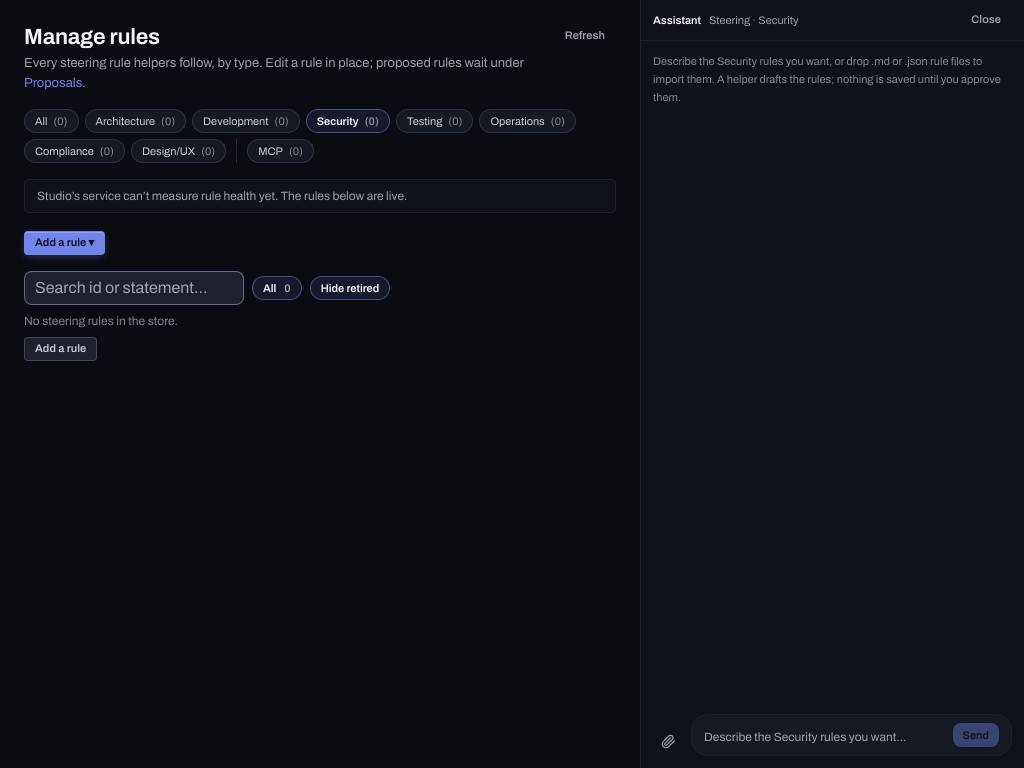
SteeringPage — the grid draft row (the add flow) › says where the SERVER filed the rule when an older engine drops steering_type
The width and height of the screenshot is (1024, 768).
Click the button with test id "steering-grid-add" at [61, 349], box [24,337,97,361]
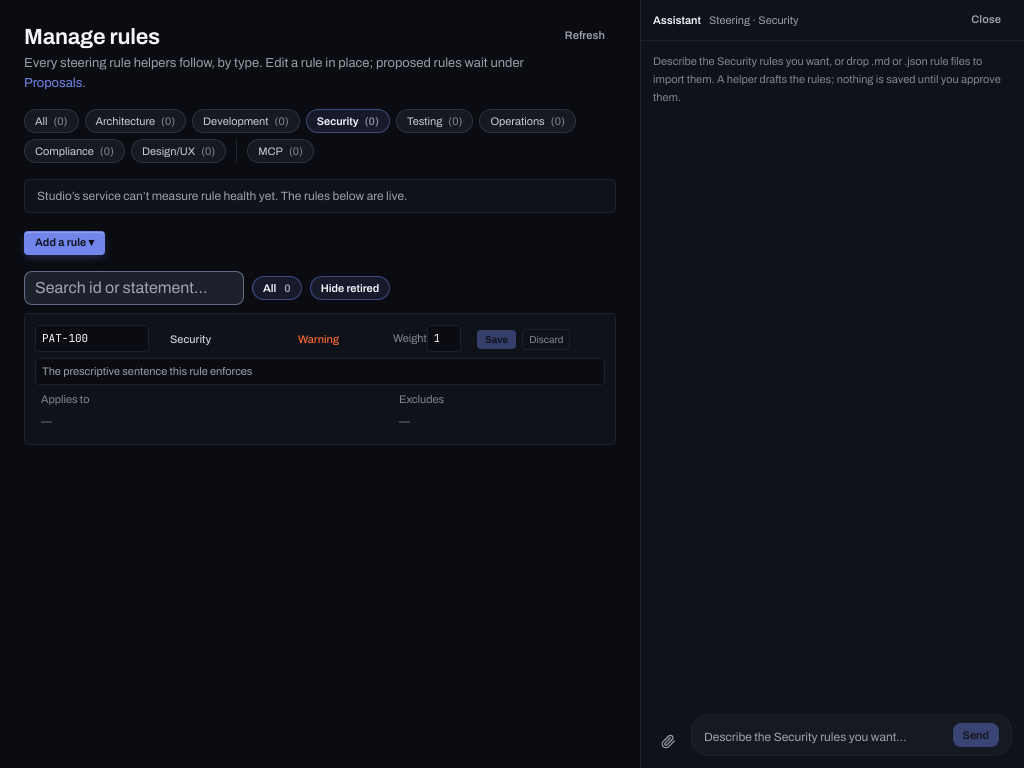
Type "dropped-type rule" into the field with test id "steering-draft-statement" at [320, 372], box [35,358,605,385]
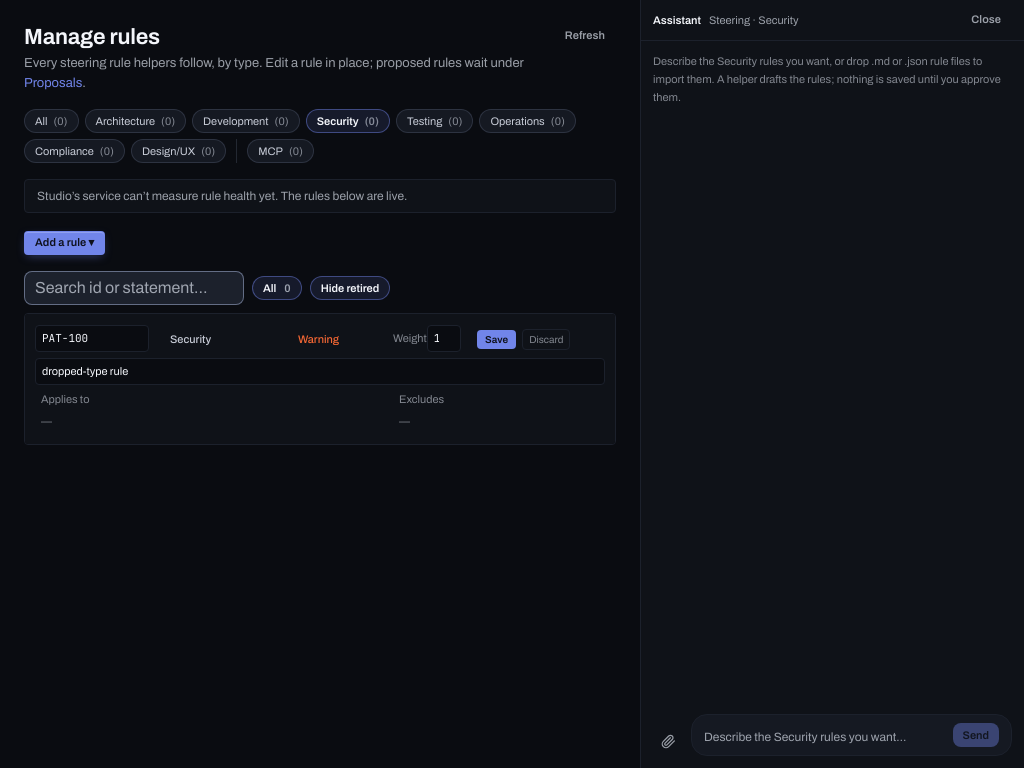
Click the button with test id "steering-draft-save" at [497, 340], box [477,330,516,349]
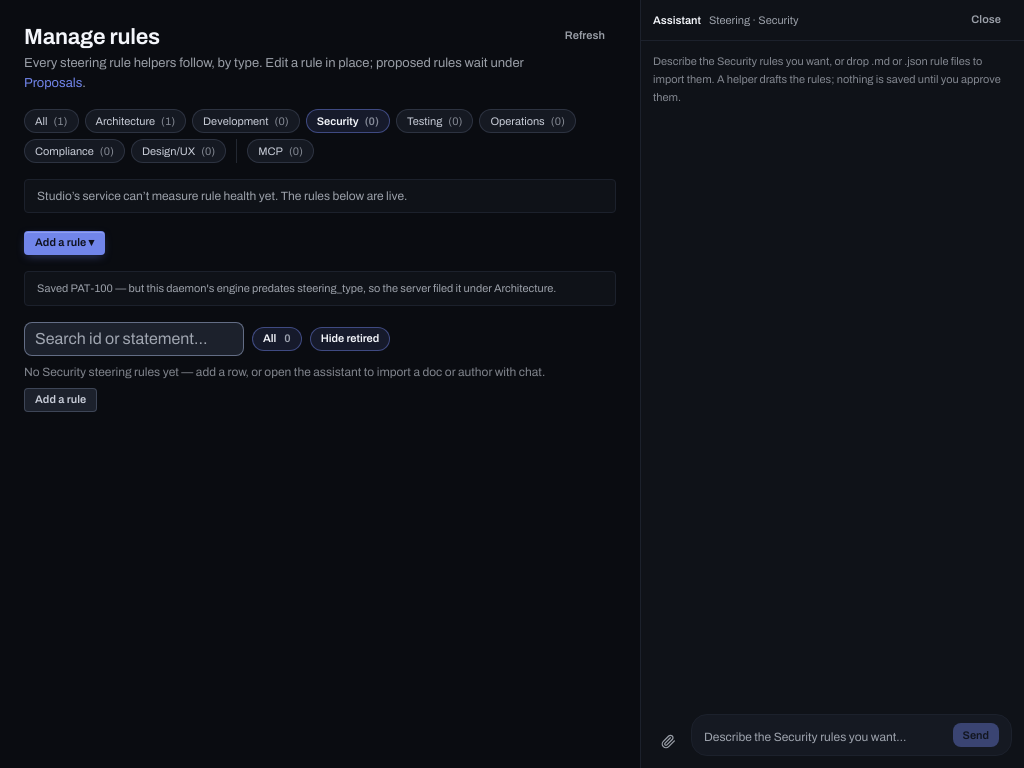
Now the text with test id "steering-saved-note" shows "the server filed it under Architecture", box [37,282,556,294]
